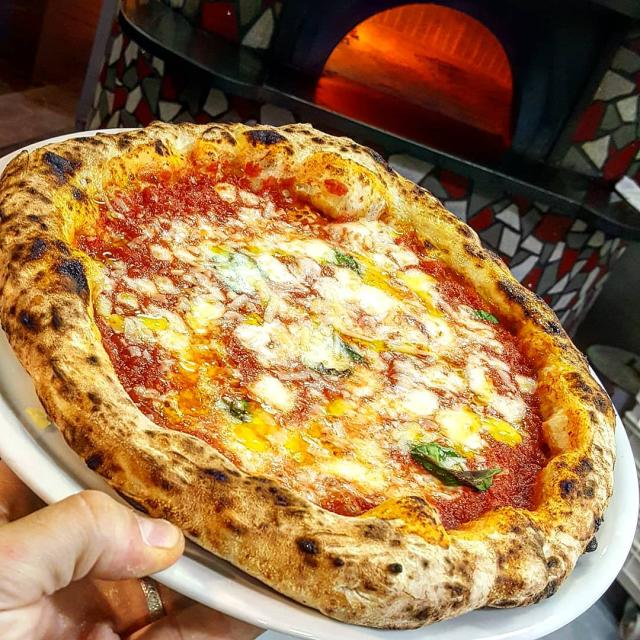basil: (410, 442, 501, 490), (213, 252, 270, 295), (215, 395, 250, 419), (334, 249, 361, 274), (474, 310, 499, 324), (346, 344, 364, 362)
pizza: (0, 123, 615, 628)
